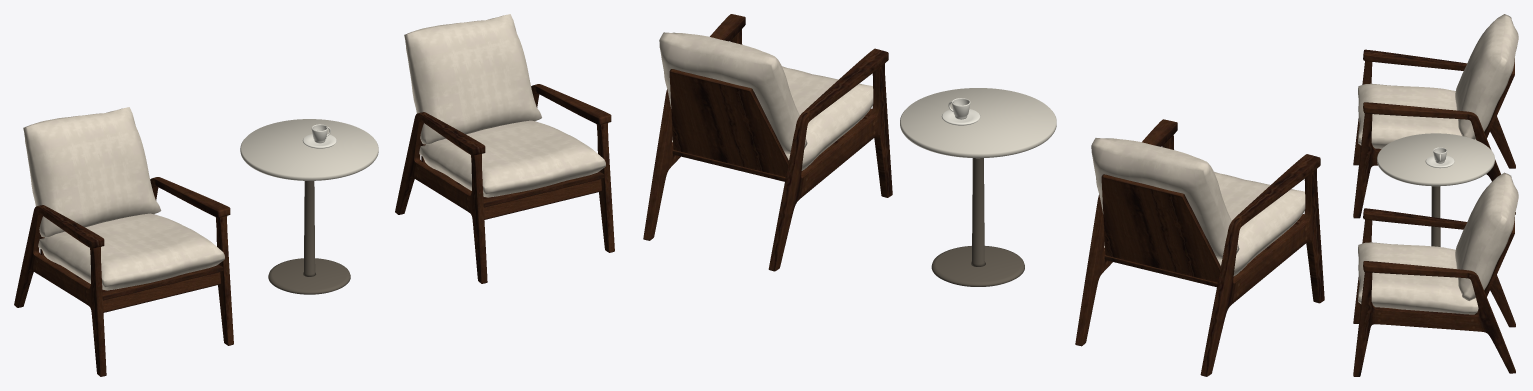
File: TerraceBistro.glb
3 views of the same model, side by side, from view 1: azimuth 30°, elevation 25°; view 2: azimuth 150°, elevation 25°; view 3: azimuth 270°, elevation 25° (orthographic). The views are drawn at different scales.
Visible parts, largest first — view 1: modern_arm_chair_01, modern_arm_chair_01.001, RefinedTeaTable; view 2: modern_arm_chair_01.001, modern_arm_chair_01, RefinedTeaTable; view 3: modern_arm_chair_01.001, modern_arm_chair_01, RefinedTeaTable.
Part boxes in pixels (<box>): modern_arm_chair_01: <box>14,107,233,376</box>; modern_arm_chair_01.001: <box>395,14,614,283</box>; RefinedTeaTable: <box>240,119,378,294</box>; modern_arm_chair_01.001: <box>643,14,892,271</box>; modern_arm_chair_01: <box>1075,119,1324,376</box>; RefinedTeaTable: <box>900,88,1056,286</box>; modern_arm_chair_01.001: <box>1353,172,1518,376</box>; modern_arm_chair_01: <box>1353,14,1518,218</box>; RefinedTeaTable: <box>1377,133,1494,246</box>.
Bounding box in the file's own units: 3.06 × 1.02 × 0.9866.
Materials: 6 (2 with a texture image).
